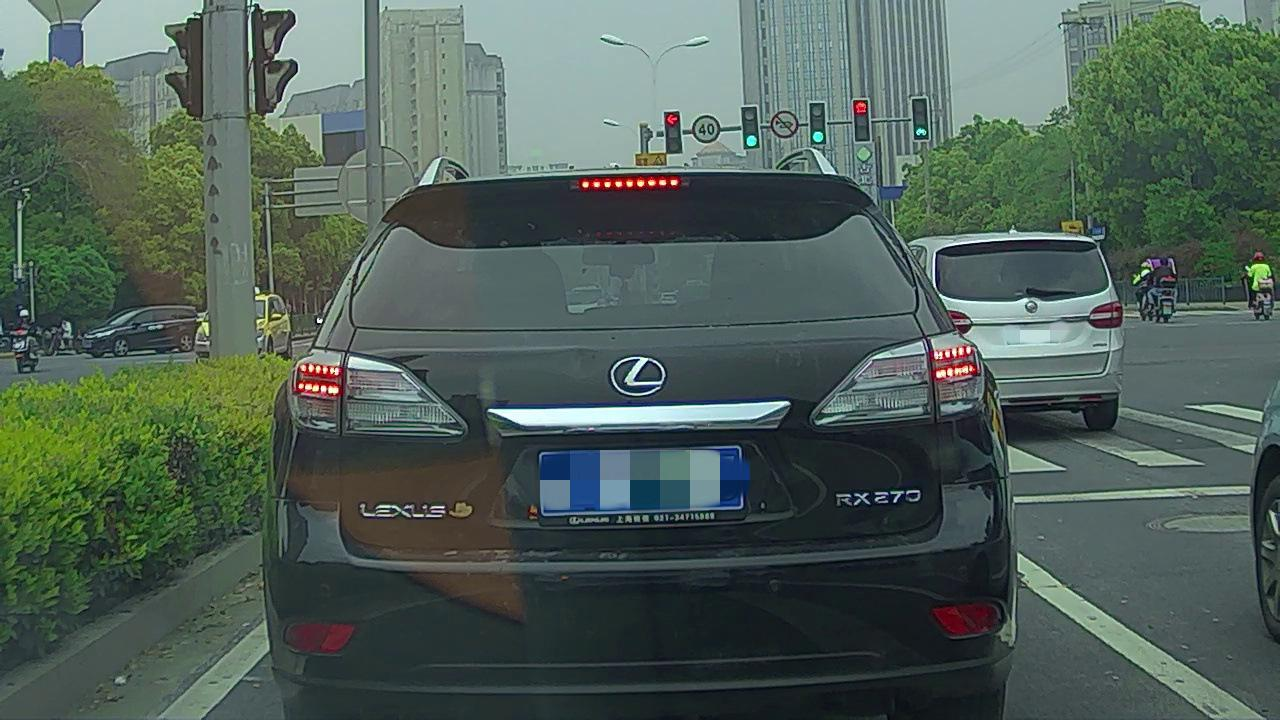traffic_light: (741, 106, 760, 149), (664, 111, 683, 153), (912, 97, 930, 139), (809, 103, 825, 145), (854, 100, 869, 141)
